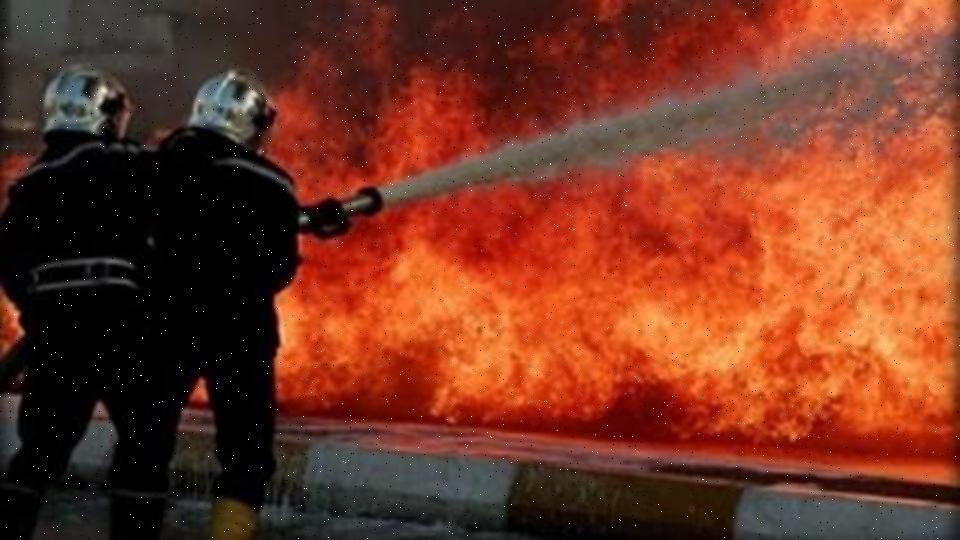fire: (299, 8, 960, 466)
